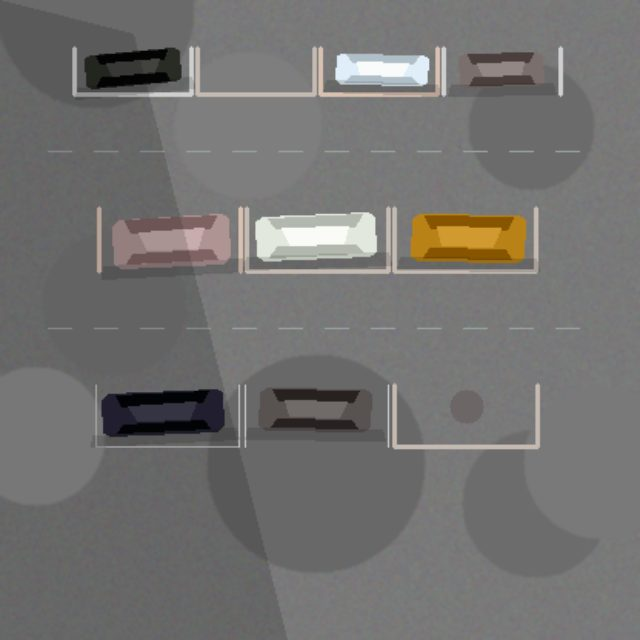space-empty: (394, 385, 537, 446), (197, 48, 314, 94)
space-occupied: (98, 208, 240, 271), (246, 208, 388, 271), (394, 208, 535, 271), (95, 385, 238, 446), (245, 385, 388, 446), (74, 48, 191, 94), (320, 48, 437, 94), (443, 48, 560, 94)
